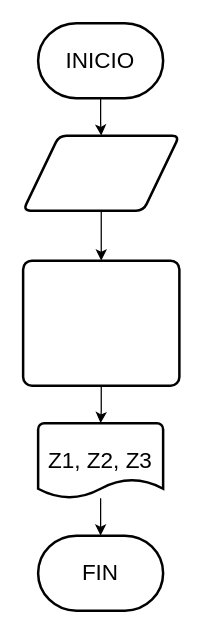
Some shapes in this 201 by 633 pixel diagram are drawn without their labels. The shapes that lost their labels are listed below. From the top down, each one's centre as x and y in pixels, then its label:
the point at 100,172: X, Y, Z1, Z2, Z3
the point at 100,322: Z1 = (X / Y) Z2 = (X % Y) Z3 = (X // Y)
